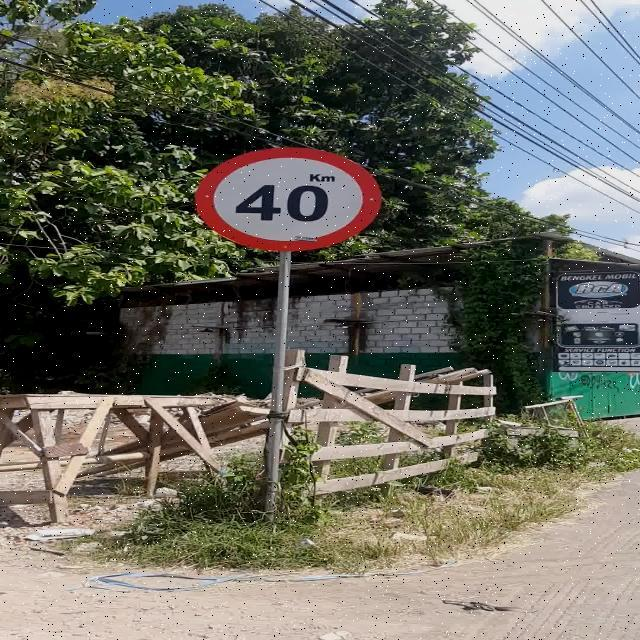Kecepatan Maks. 40 km: (193, 146, 382, 252)
